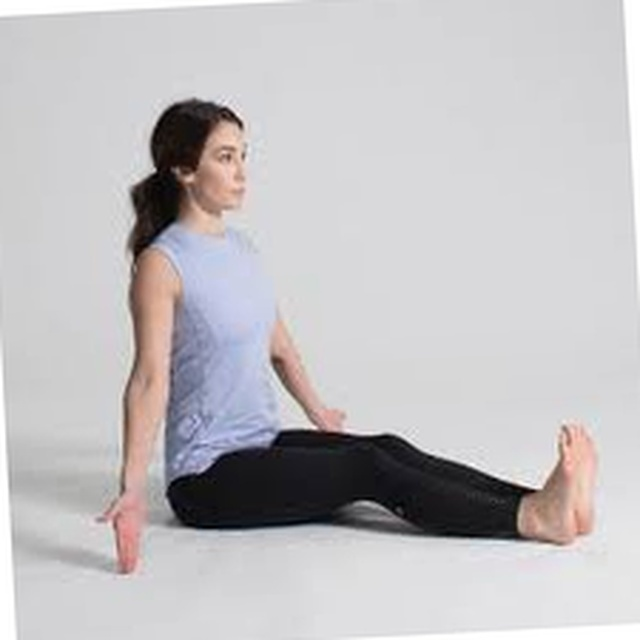Staff_Pose: (93, 99, 600, 577)
